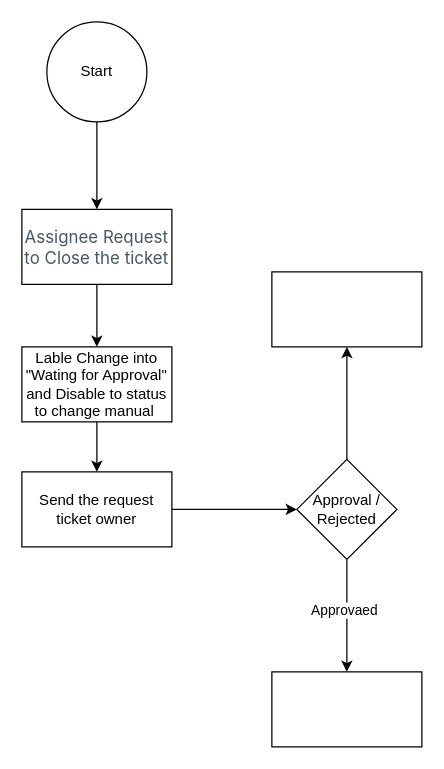
This 444x769 diagram has some shape labels left out. The box of each missing label's shape, as (x1, y1, x2, y2) in pixels:
Change As "Inprograss" Status: (271, 271, 422, 347)
Lable status chnage to Close status: (271, 671, 422, 747)
